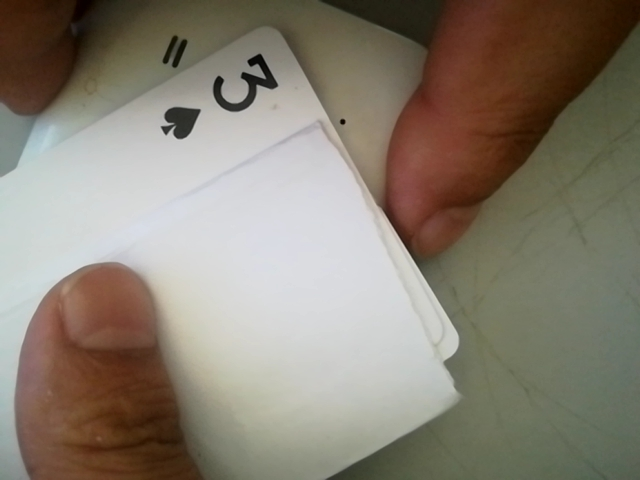ht 3: (150, 39, 304, 136)
